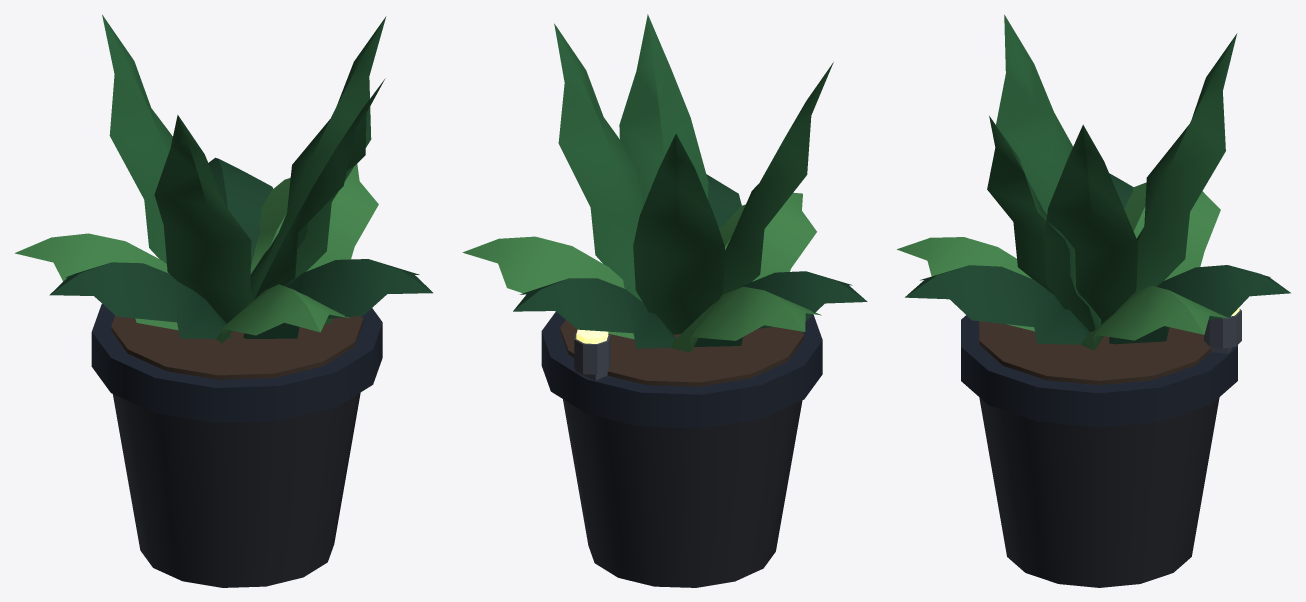
Rendered from planter_pot.glb.
3 views of the same model, side by side, from view 1: azimuth 30°, elevation 25°; view 2: azimuth 150°, elevation 25°; view 3: azimuth 270°, elevation 25° (orthographic). The views are drawn at different scales.
Parts seen in each view (by area): view 1: body; view 2: body, light; view 3: body, light.
Part boxes in pixels (<box>): body: <box>15,14,432,587</box>; body: <box>462,14,867,587</box>; light: <box>574,329,610,380</box>; body: <box>897,14,1290,587</box>; light: <box>1204,307,1241,353</box>.
Size of the model in its own units: 0.8637 by 1.14 by 0.8343.
